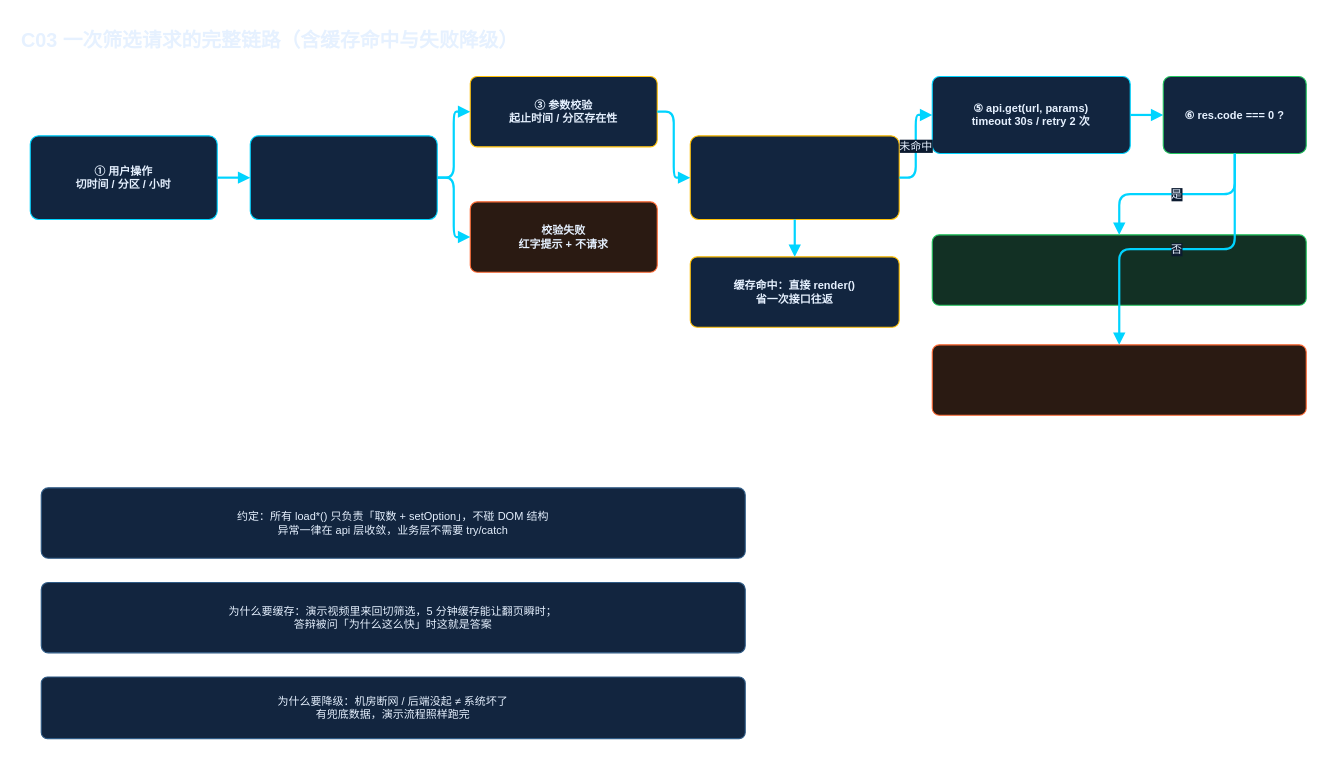
The diagram is 1335 pixels wide and 758 high, and some of its shapes have lost their labels. Each missing label, with the centre of its shape:
"② getFilters() 组装查询参数对象" belongs at (343,177).
"④ 缓存检查 key = hash(参数)，TTL 5min" belongs at (794,177).
"失败：读 assets/sample/*.json 顶部提示「离线样例数据」" belongs at (1118,379).
"成功：写 STATE + render*() 图表重绘 / KPI 刷新" belongs at (1118,269).
